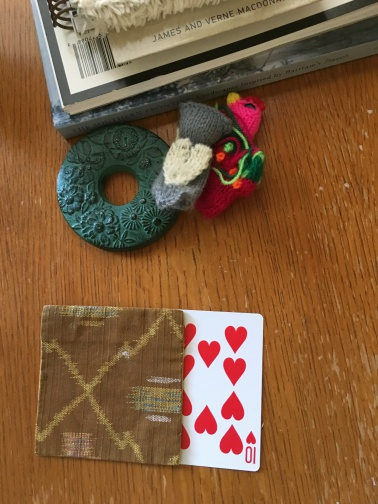ten: (176, 309, 265, 473)
